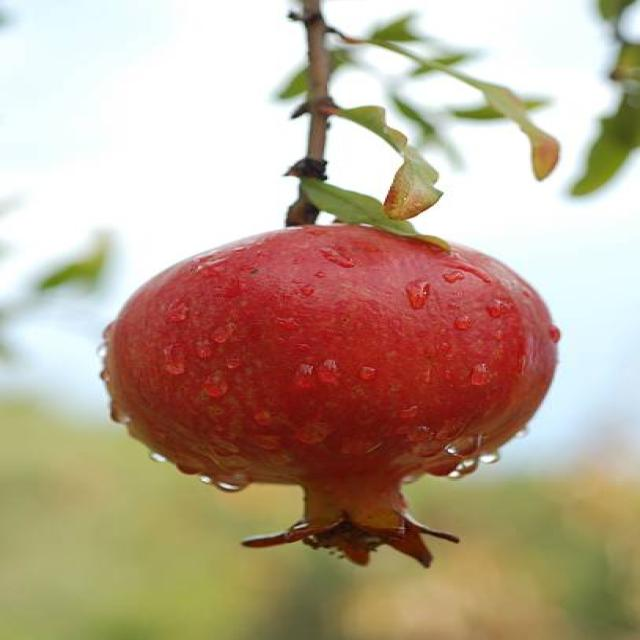Ripe: (89, 216, 569, 567)
